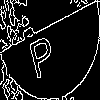P: (25, 25, 57, 81)
